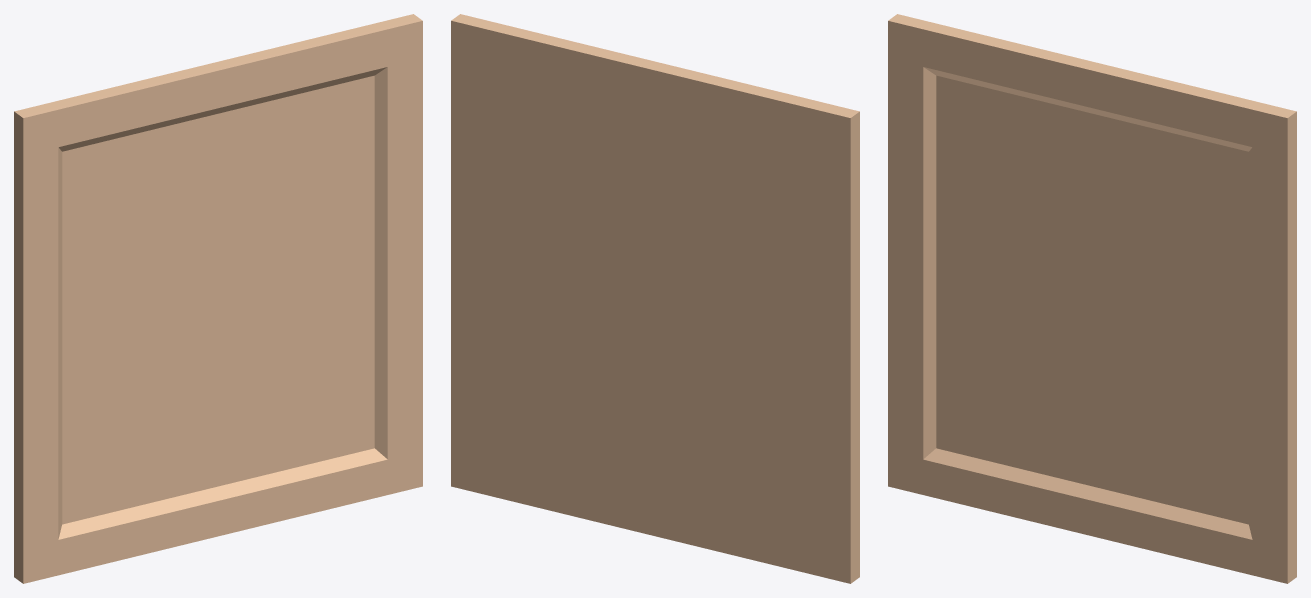
File: PictureFrame.fbx
The picture shows the model from 3 angles, left to right: view 1: azimuth 30°, elevation 25°; view 2: azimuth 150°, elevation 25°; view 3: azimuth 330°, elevation 25°; orthographic projection.
Visible parts, largest first — view 1: paneling; view 2: paneling; view 3: paneling.
Boxes of the visible parts, x1=… form: paneling: x1=14, y1=14, x2=422, y2=583; paneling: x1=451, y1=14, x2=859, y2=583; paneling: x1=888, y1=14, x2=1296, y2=583.
Bounding box in the file's own units: 500 × 557 × 20.
